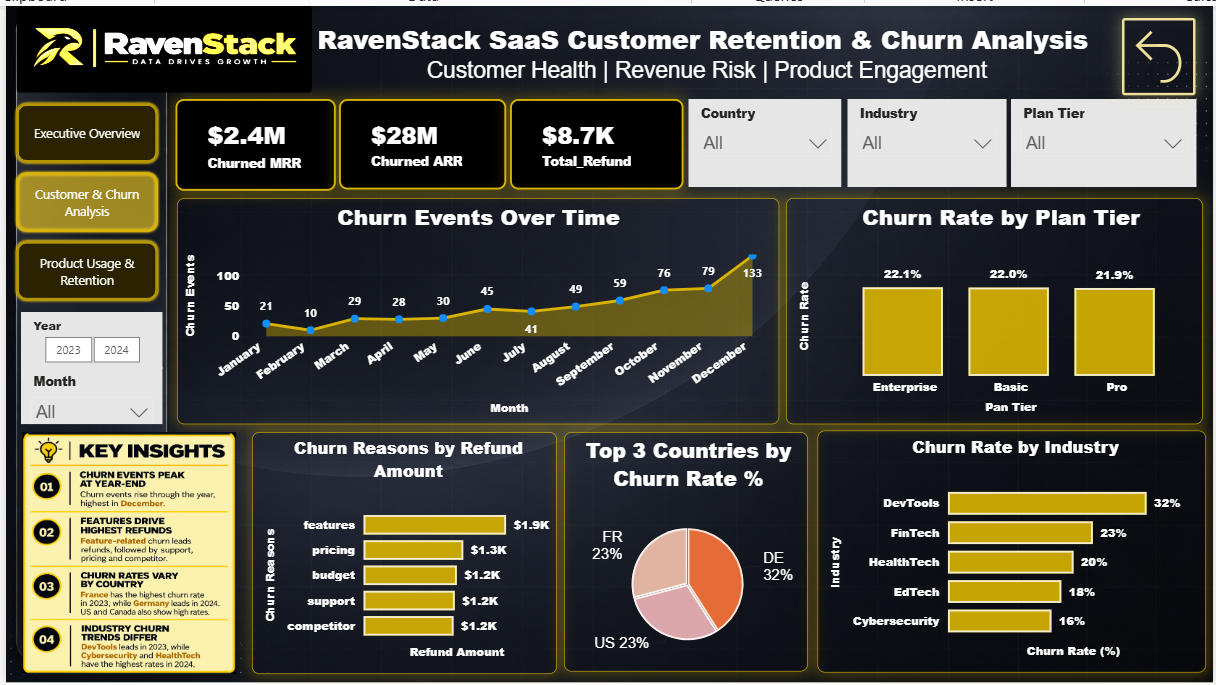

This screenshot's page, from the dashboard's own definition file:
{"tool":"powerbi","page":{"name":"Customer & Churn Analysis","canvas":[1280,720],"ordinal":1},"visuals":[{"type":"textbox","box":[310,12,864,80],"z":0},{"type":"cardVisual","fields":{"Data":["ravenstack_accounts.Churned_MRR"]},"box":[179,99,170,97],"z":1000},{"type":"cardVisual","fields":{"Data":["ravenstack_accounts.Churned_ARR"]},"box":[352.5,98.8,177.5,96.2],"z":2000},{"type":"cardVisual","fields":{"Data":["ravenstack_churn_events.Total_Refund"]},"box":[535,99,184,96],"z":3000},{"type":"lineChart","title":"Churn Events Over Time","fields":{"Category":["ravenstack_churn_events.Churn Date.Variation.Date Hierarchy.Month"],"Y":["CountNonNull(ravenstack_churn_events.Churn Event ID)"]},"box":[181.7,203.3,638.3,240],"z":4000},{"type":"columnChart","title":"Churn Rate by Plan Tier","fields":{"Y":["ravenstack_accounts.Churn Rate"],"Category":["ravenstack_accounts.Plan Tier"]},"box":[827,203.3,441.7,240],"z":5000},{"type":"pieChart","title":"Top 3 Countries by Churn Rate %","fields":{"Category":["ravenstack_accounts.Country"],"Y":["ravenstack_accounts.Churn Rate %"]},"box":[592.5,451.2,258.8,253.8],"z":6000},{"type":"barChart","title":"Churn Rate by Industry","fields":{"Y":["ravenstack_accounts.Churn Rate %"],"Category":["ravenstack_accounts.Industry"]},"box":[861,450,411.7,256.7],"z":7000},{"type":"slicer","fields":{"Values":["Date_Table.Month"]},"box":[16,384,150,60],"z":8000},{"type":"slicer","fields":{"Values":["Date_Table.Year"]},"box":[16,324,150,60],"z":9000},{"type":"barChart","title":"Churn Reasons by Refund Amount","fields":{"Y":["ravenstack_churn_events.Total_Refund"],"Category":["ravenstack_churn_events.Reason Code"]},"box":[261.2,451.2,323.3,256.7],"z":10000},{"type":"slicer","fields":{"Values":["ravenstack_accounts.Plan Tier"]},"box":[1065,98.3,196.7,93.3],"z":11000},{"type":"slicer","fields":{"Values":["ravenstack_accounts.Industry"]},"box":[891.7,98.3,168.3,93.3],"z":12000},{"type":"slicer","fields":{"Values":["ravenstack_accounts.Country"]},"box":[723,98.6,162,93],"z":13000},{"type":"actionButton","box":[1184,12,78,82],"z":14000},{"type":"image","box":[11.7,0,313.3,91.7],"z":15000},{"type":"pageNavigator","box":[8.3,100,156.7,215],"z":16000},{"type":"image","box":[0,451.2,261.7,256.7],"z":17000}]}

Visuals, with their boxes on the page's 1280x720 design canvas (x1, y1, x2, y2). These are canvas units, not pixel positions in the 1216x685 screenshot, which may show the page scaled, cropped or inside an application window:
textbox: box=[310, 12, 1174, 92]
cardVisual - ravenstack_accounts.Churned_MRR: box=[179, 99, 349, 196]
cardVisual - ravenstack_accounts.Churned_ARR: box=[352, 99, 530, 195]
cardVisual - ravenstack_churn_events.Total_Refund: box=[535, 99, 719, 195]
"Churn Events Over Time" lineChart: box=[182, 203, 820, 443]
"Churn Rate by Plan Tier" columnChart: box=[827, 203, 1269, 443]
"Top 3 Countries by Churn Rate %" pieChart: box=[592, 451, 851, 705]
"Churn Rate by Industry" barChart: box=[861, 450, 1273, 707]
slicer - Date_Table.Month: box=[16, 384, 166, 444]
slicer - Date_Table.Year: box=[16, 324, 166, 384]
"Churn Reasons by Refund Amount" barChart: box=[261, 451, 584, 708]
slicer - ravenstack_accounts.Plan Tier: box=[1065, 98, 1262, 192]
slicer - ravenstack_accounts.Industry: box=[892, 98, 1060, 192]
slicer - ravenstack_accounts.Country: box=[723, 99, 885, 192]
actionButton: box=[1184, 12, 1262, 94]
image: box=[12, 0, 325, 92]
pageNavigator: box=[8, 100, 165, 315]
image: box=[0, 451, 262, 708]
